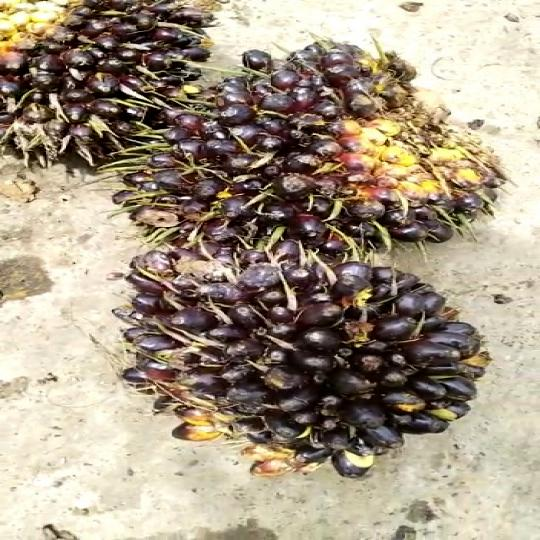mentah: (111, 239, 501, 480), (132, 41, 516, 270), (0, 0, 213, 172)
